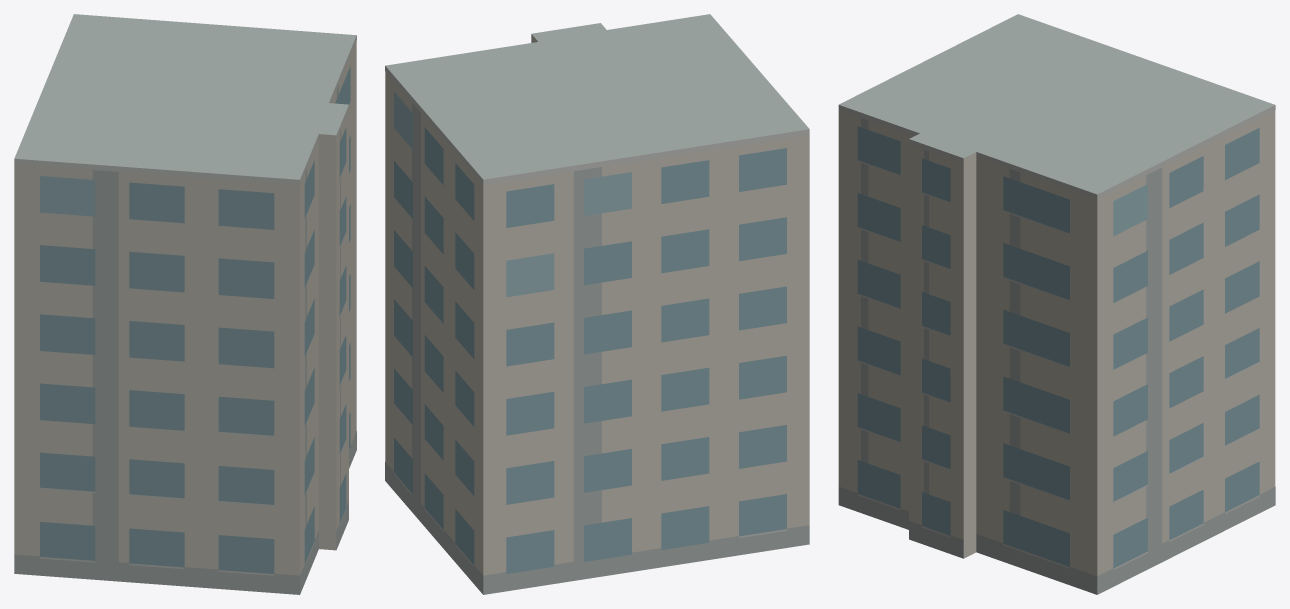
The model's file is survey-upis-32750082.glb.
The picture shows the model from 3 angles, left to right: view 1: azimuth 30°, elevation 25°; view 2: azimuth 150°, elevation 25°; view 3: azimuth 270°, elevation 25°; orthographic projection. The views are drawn at different scales.
Parts seen in each view (by area): view 1: survey-upis-32750082.tmp; view 2: survey-upis-32750082.tmp; view 3: survey-upis-32750082.tmp.
Boxes of the visible parts, left/top/right/bottom form: survey-upis-32750082.tmp: left=14, top=14, right=356, bottom=594; survey-upis-32750082.tmp: left=385, top=14, right=809, bottom=594; survey-upis-32750082.tmp: left=838, top=14, right=1275, bottom=594.
Bounding box in the file's own units: 17.7 × 18.3 × 18.1.
